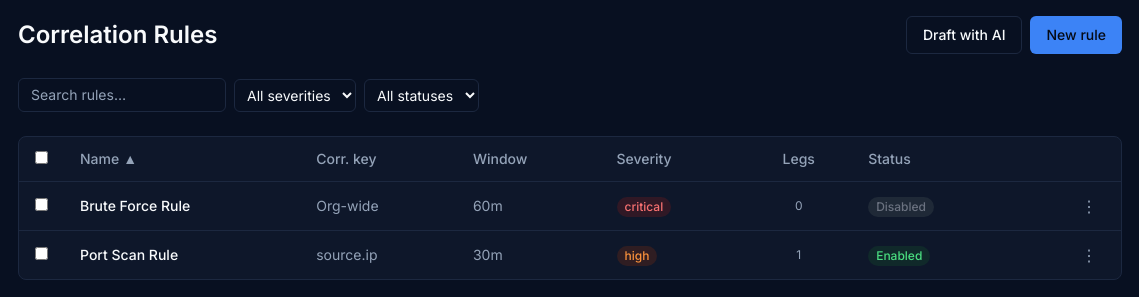
Test: CorrelationRulesAdmin › filters by search query
Expected: the text "Port Scan Rule" is shown, x1=64 y1=230 x2=300 y2=279
Type "brute" into the search field labelled "Search rules" at (122, 95), box x1=18 y1=78 x2=226 y2=112
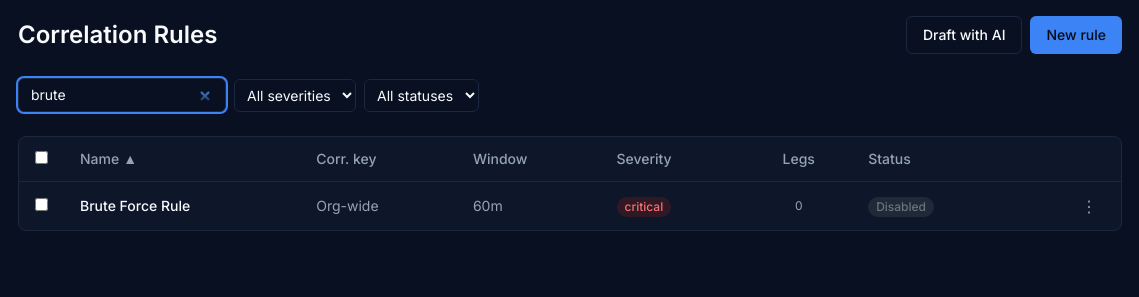
Expected: the text "Brute Force Rule" is shown, x1=64 y1=182 x2=300 y2=230
Now the text "Port Scan Rule" is gone
